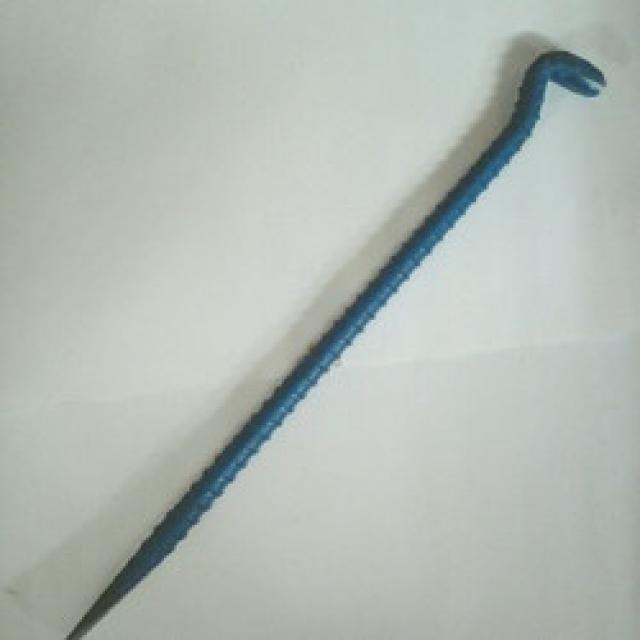Linggis: (72, 52, 610, 640)
